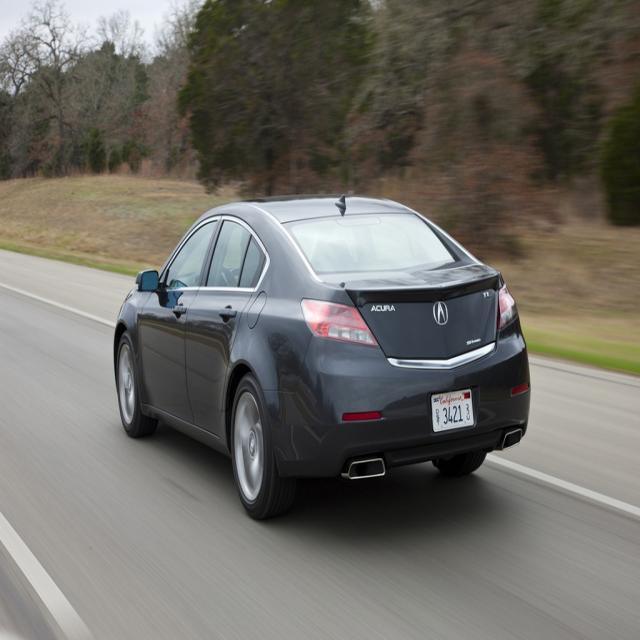car: (108, 188, 534, 520)
